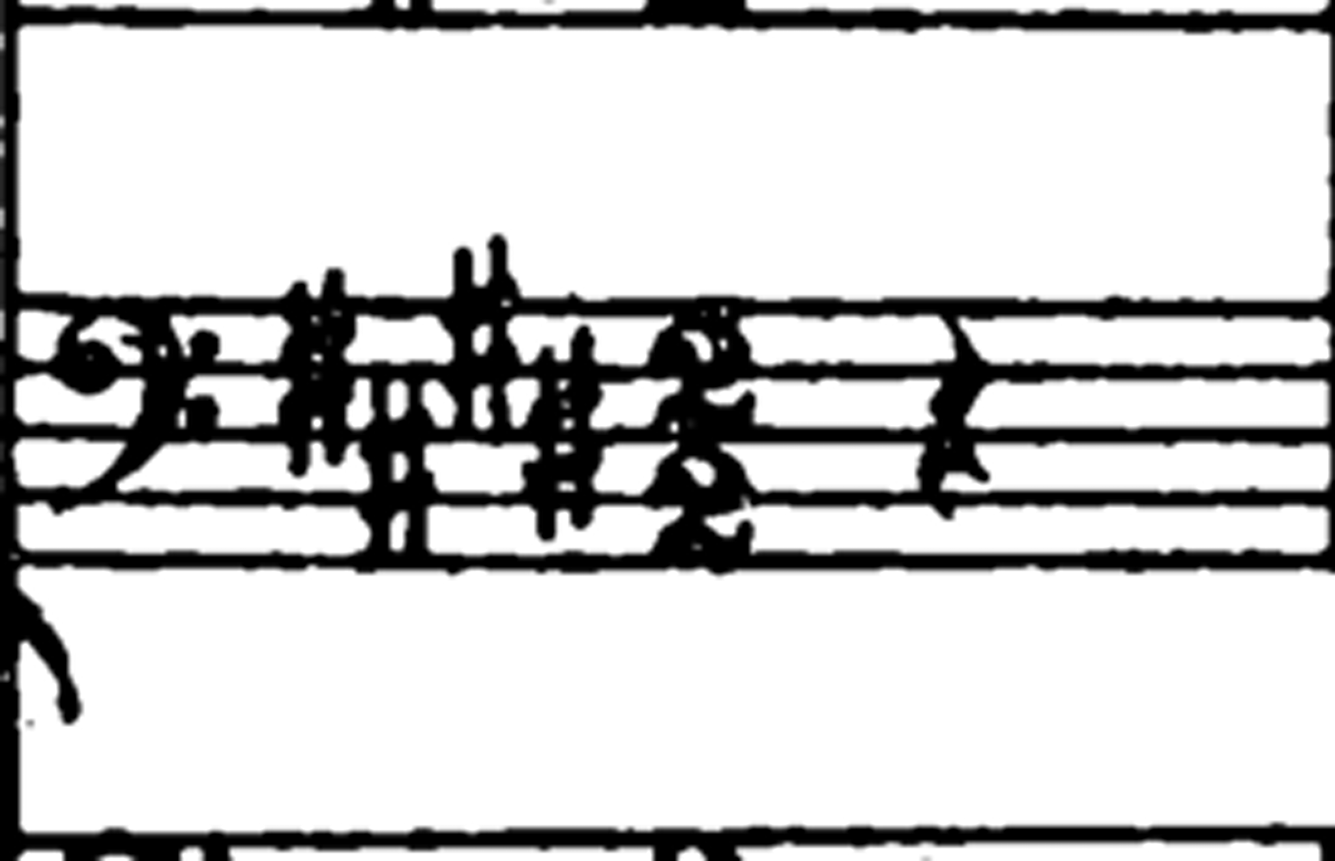clefF: (43, 269, 239, 539)
noteheadBlackInSpace: (0, 837, 25, 860)
noteheadBlackOnLine: (0, 723, 18, 743)
restHBar: (150, 523, 1151, 595), (284, 276, 1285, 347), (50, 275, 1051, 342), (324, 344, 1318, 403), (0, 0, 984, 49)
